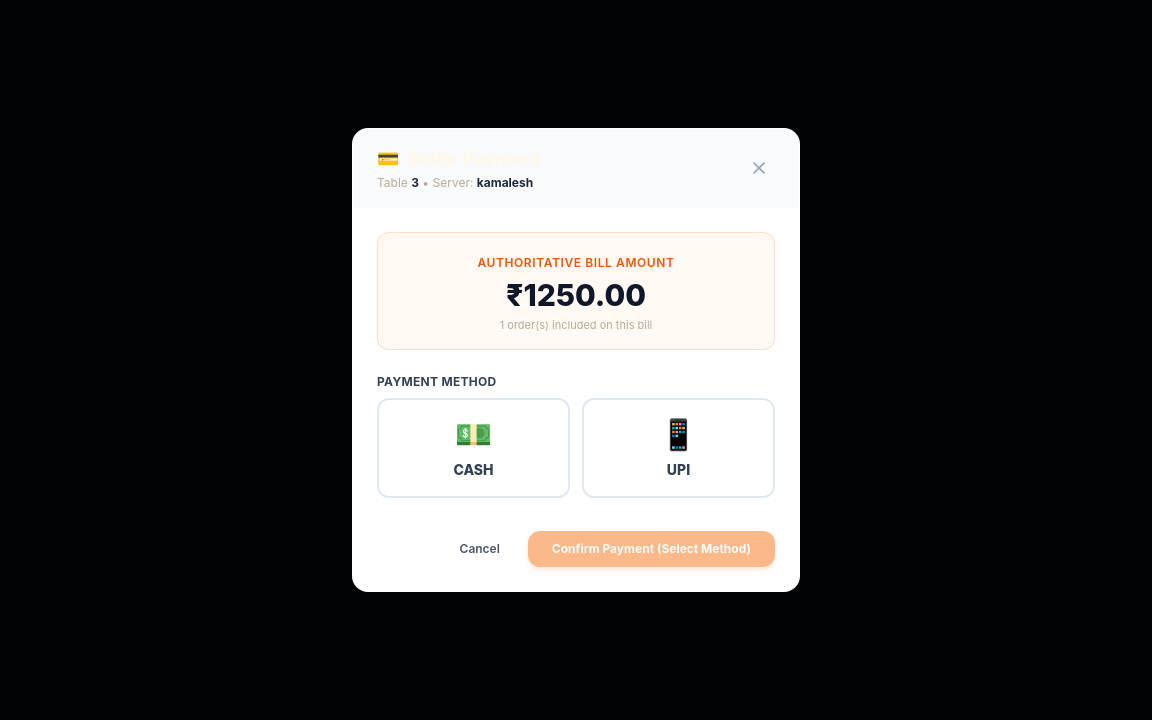
Test: Tiffzy Server Station — Cash/UPI Payment Settlement & Bill Printing › Phase 4, 7, 10: Cash Settlement Execution and Duplicate Protection › H, I, J, K, L: confirms Cash settlement and transitions to Success screen
This screenshot has width=1152, height=720.
Select CASH
Click the button with test id "payment-method-cash".
click(474, 448)  # box 377,398 -> 570,498
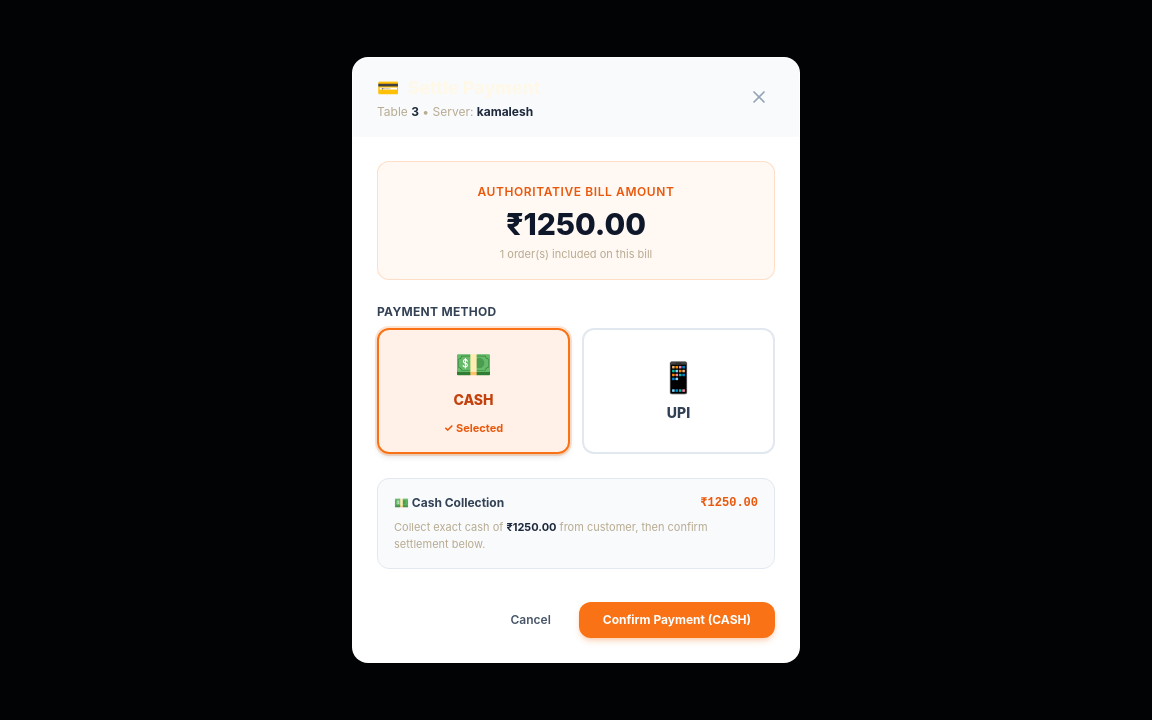
Click Confirm
Click the button with test id "confirm-payment-btn".
click(677, 620)  # box 579,602 -> 775,638
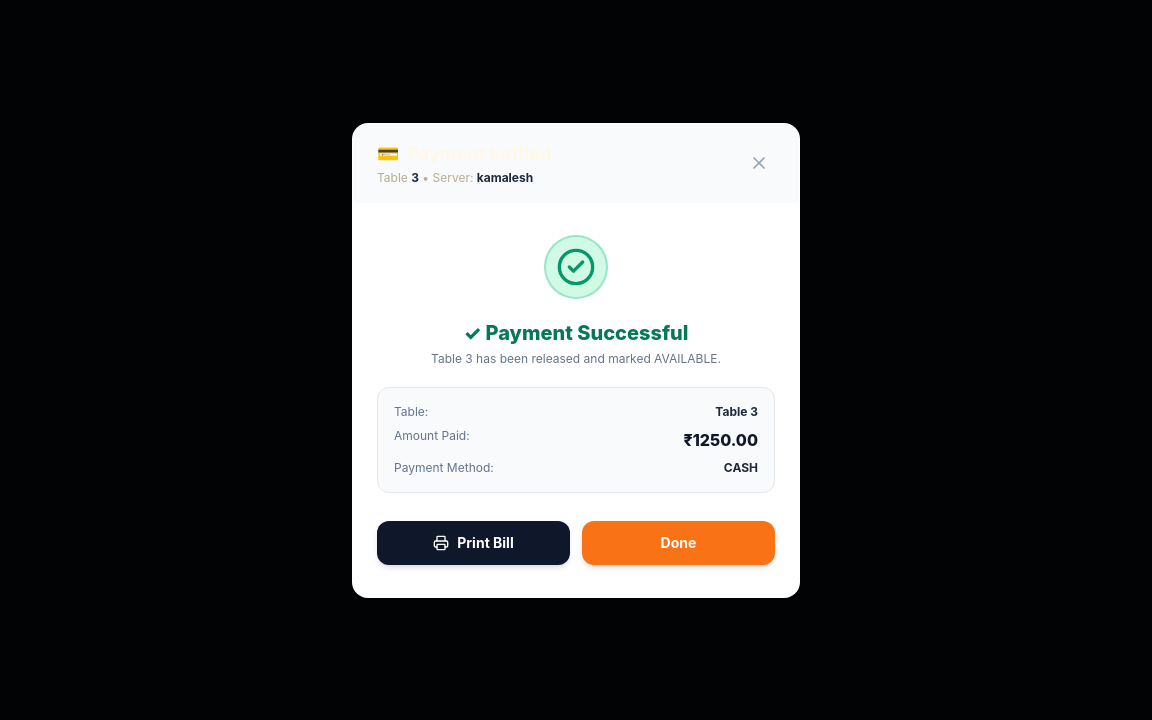
Now the element with test id "settlement-success-view" is shown, box 377,226 -> 775,572
Now the heading "✓ Payment Successful" is shown, box 464,320 -> 688,344
Now the button with test id "print-bill-btn" is shown, box 377,520 -> 570,564
